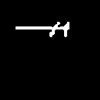double_crochet: (16, 22, 68, 36)
